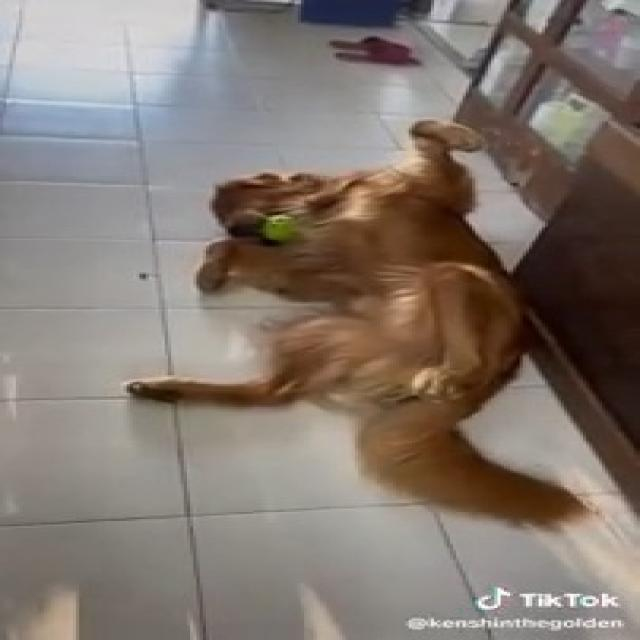dogs: (127, 116, 585, 529)
